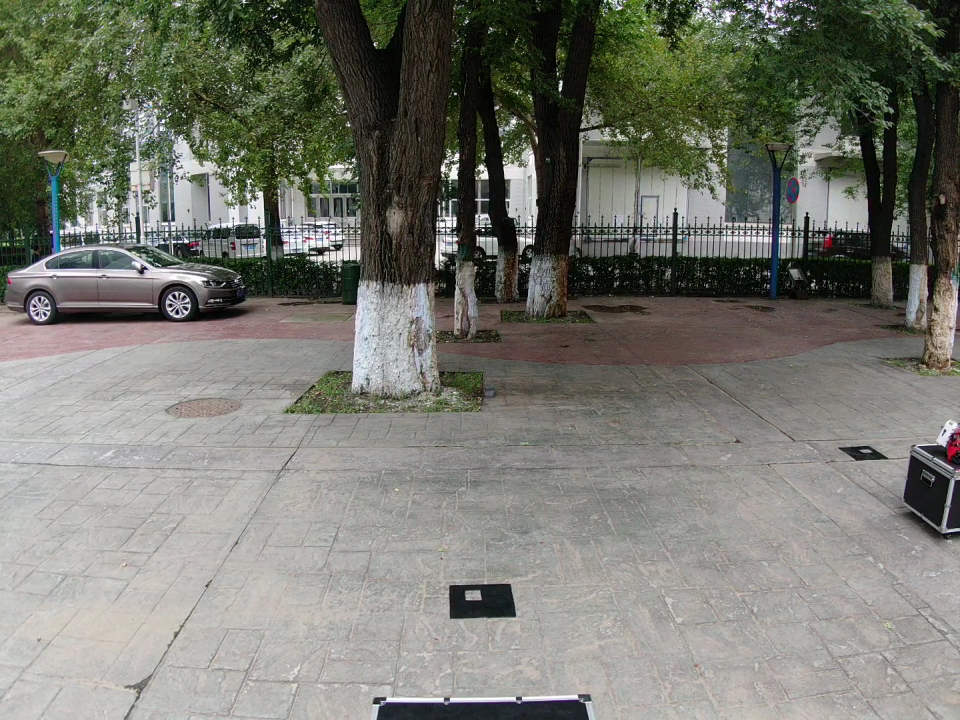qrcode: (450, 584, 517, 619), (838, 446, 889, 461)
